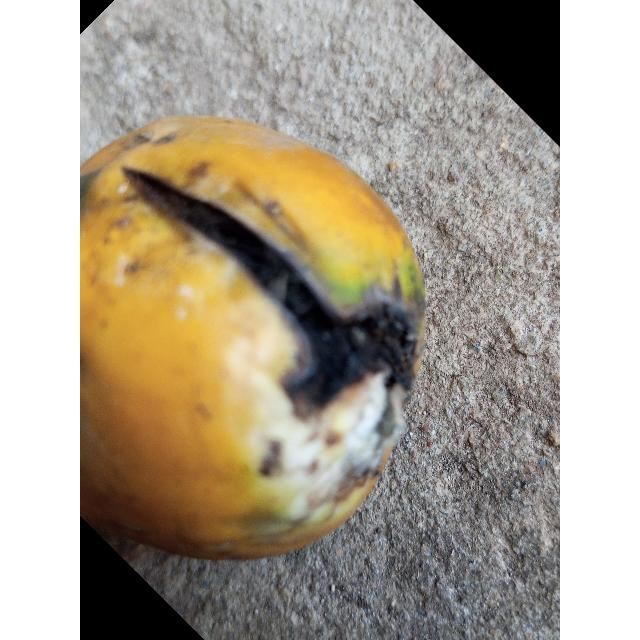damaged: (80, 116, 425, 559)
